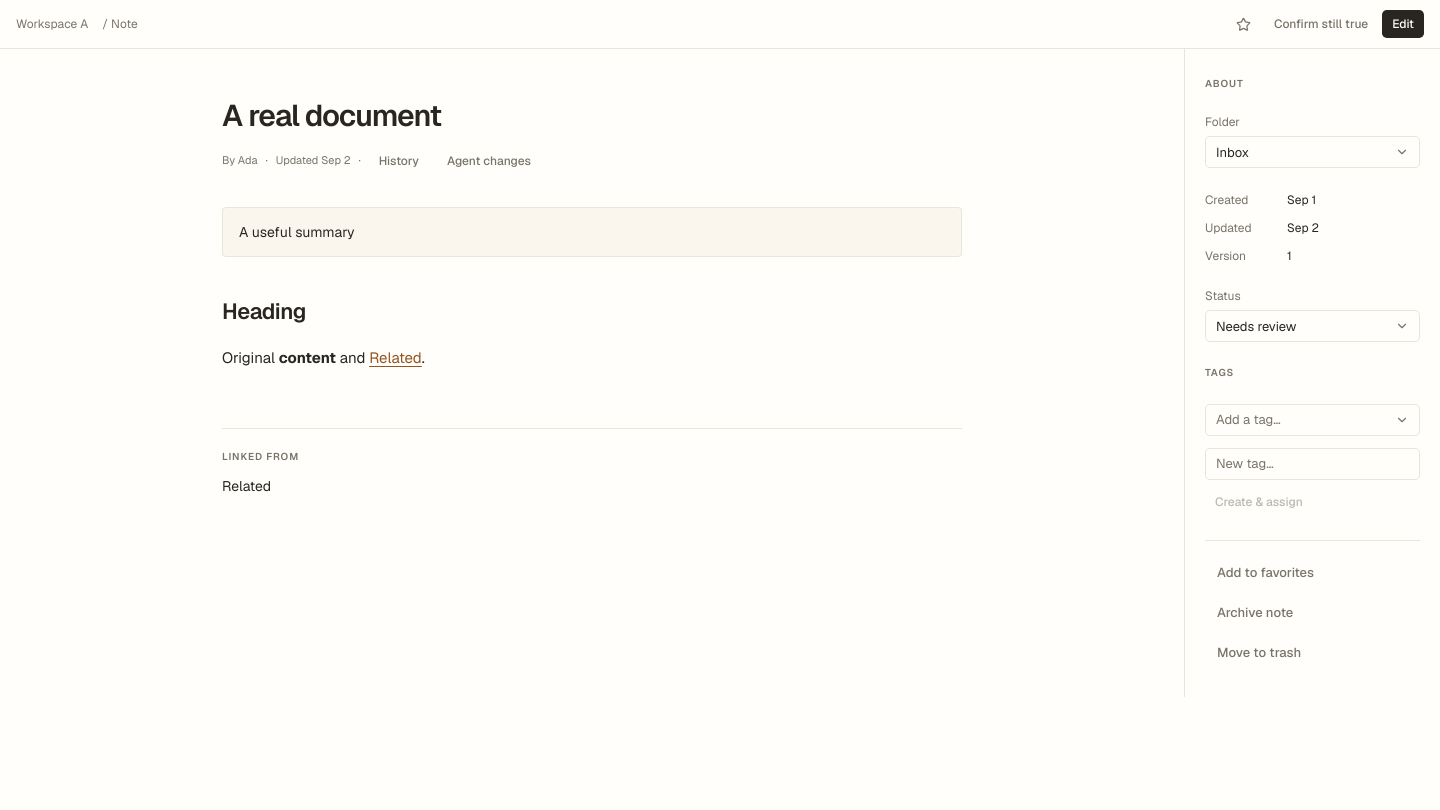
Test: document interactions › inspects and restores history as a new version
Click the button "History" at (399, 160), box [369,146,429,174]
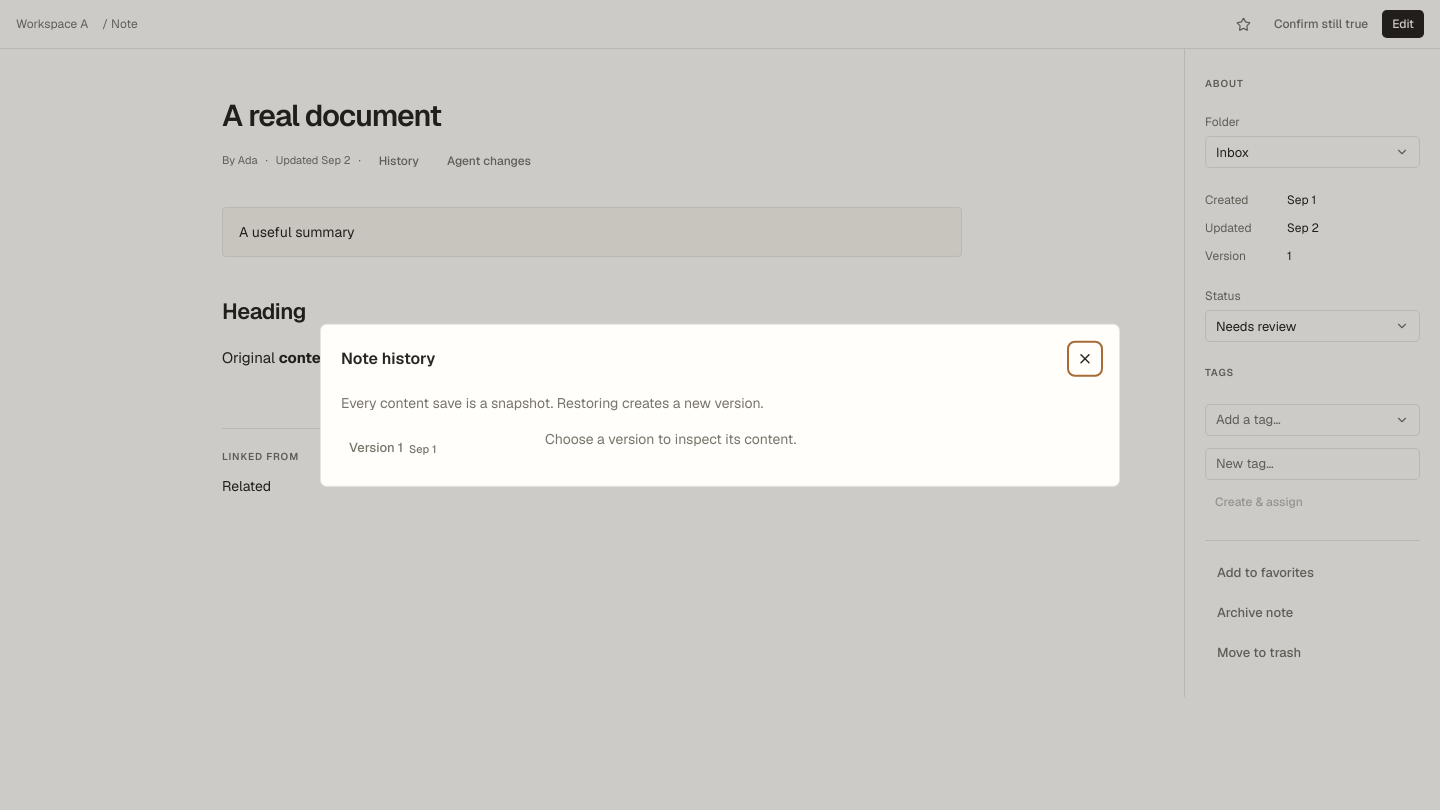
Click the button "Version 1 Sep 1" at (431, 447), box [341,429,521,465]
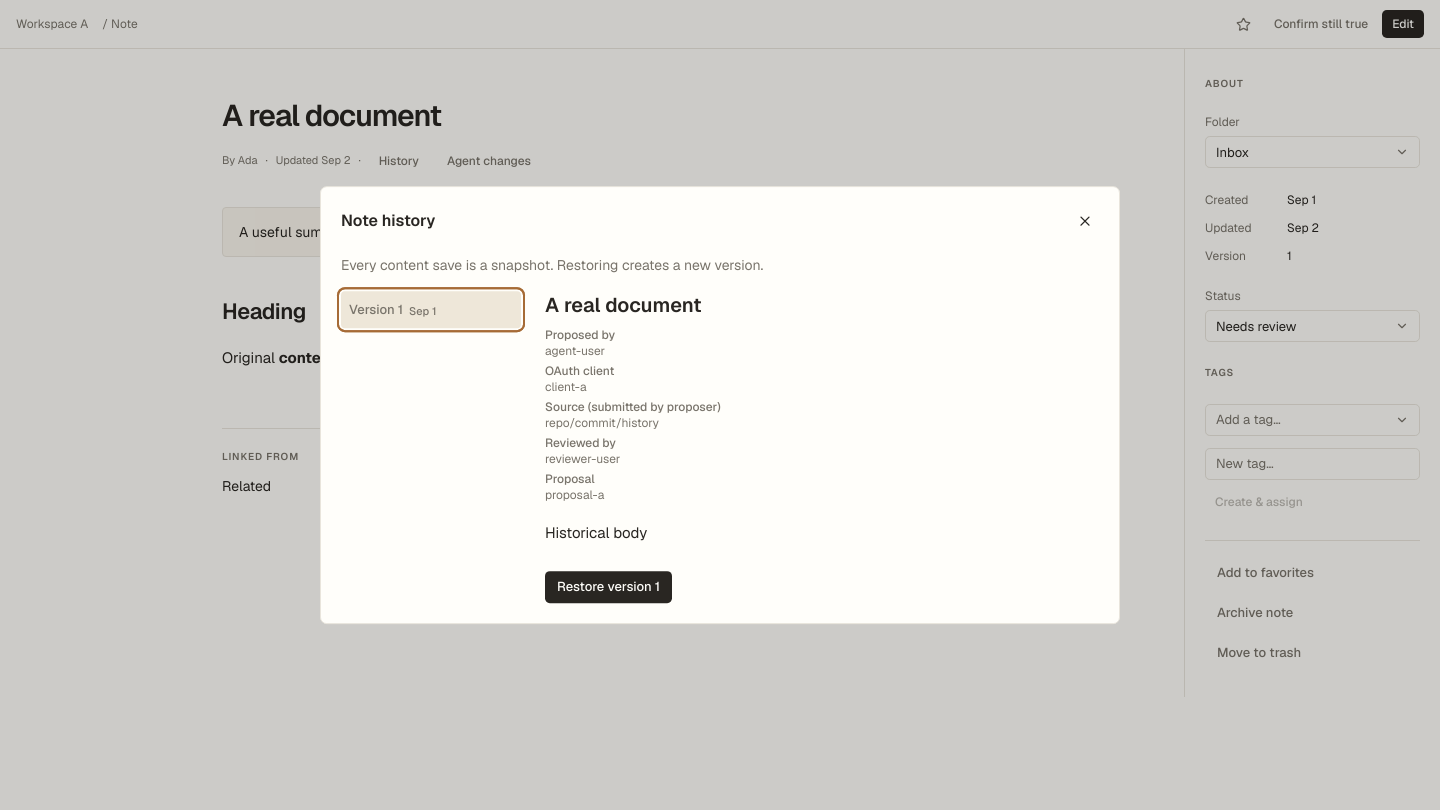
expect the text "agent-user" is shown: met, box [545,343,605,359]
expect the text "reviewer-user" is shown: met, box [545,451,620,467]
expect the text "repo/commit/history" is shown: met, box [545,415,659,431]
Click the button "Restore version 1" at (609, 587), box [545,571,672,603]
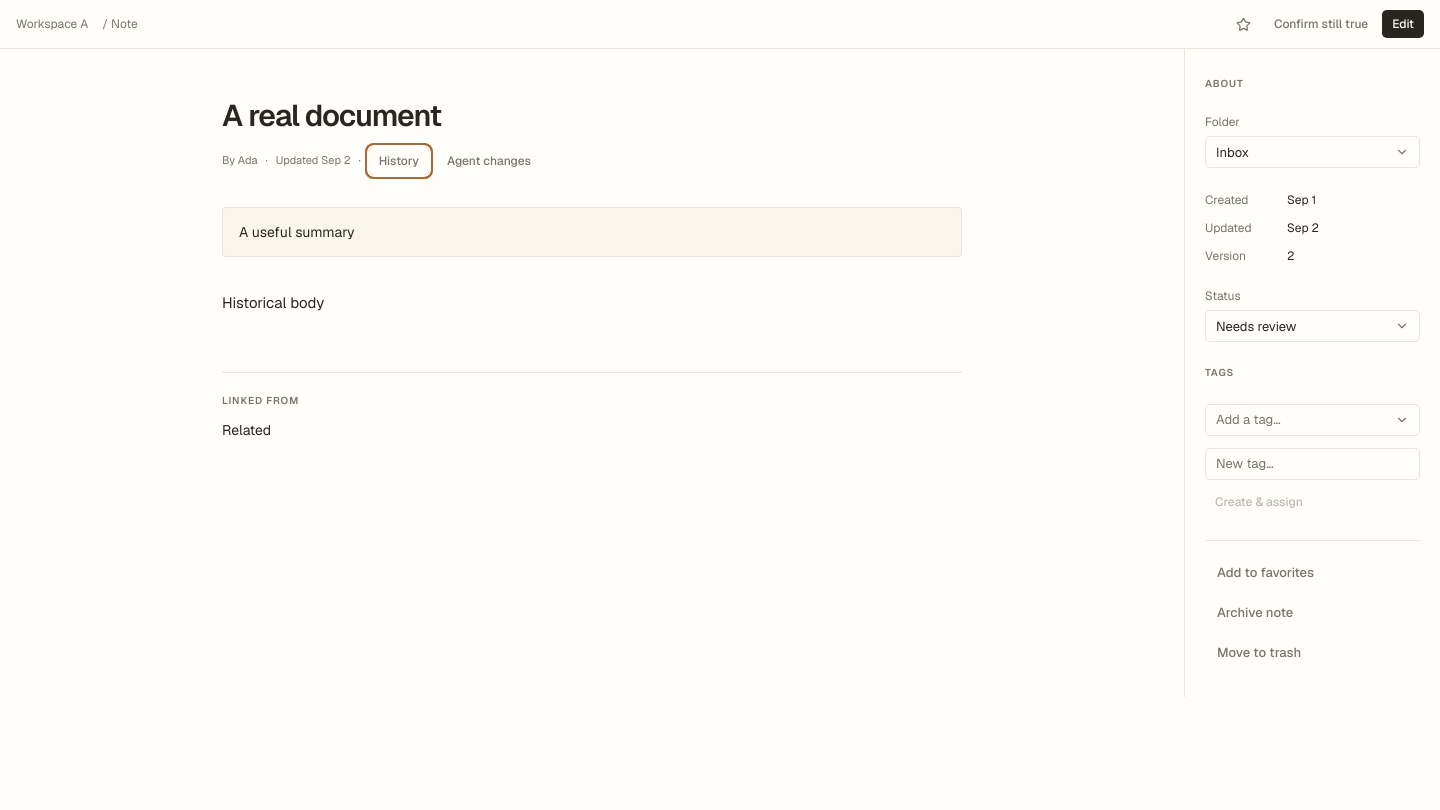
expect the dialog is gone: met
expect the text "Historical body" is shown: met, box [222,292,324,312]
